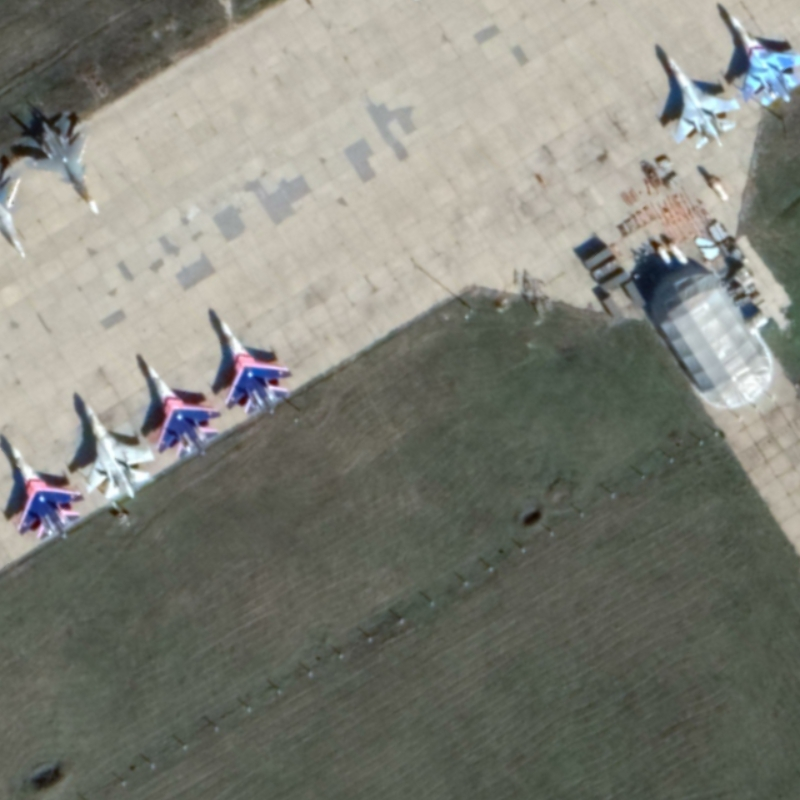A1: (655, 43, 744, 154), (711, 1, 800, 110), (74, 393, 158, 503), (212, 314, 298, 420), (139, 355, 224, 462), (6, 436, 87, 544)
A19: (24, 110, 105, 221)
